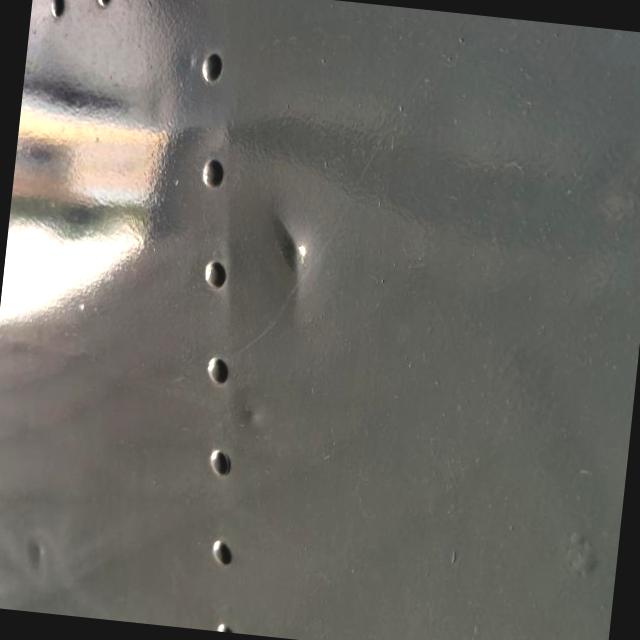dent: (228, 180, 350, 340)
